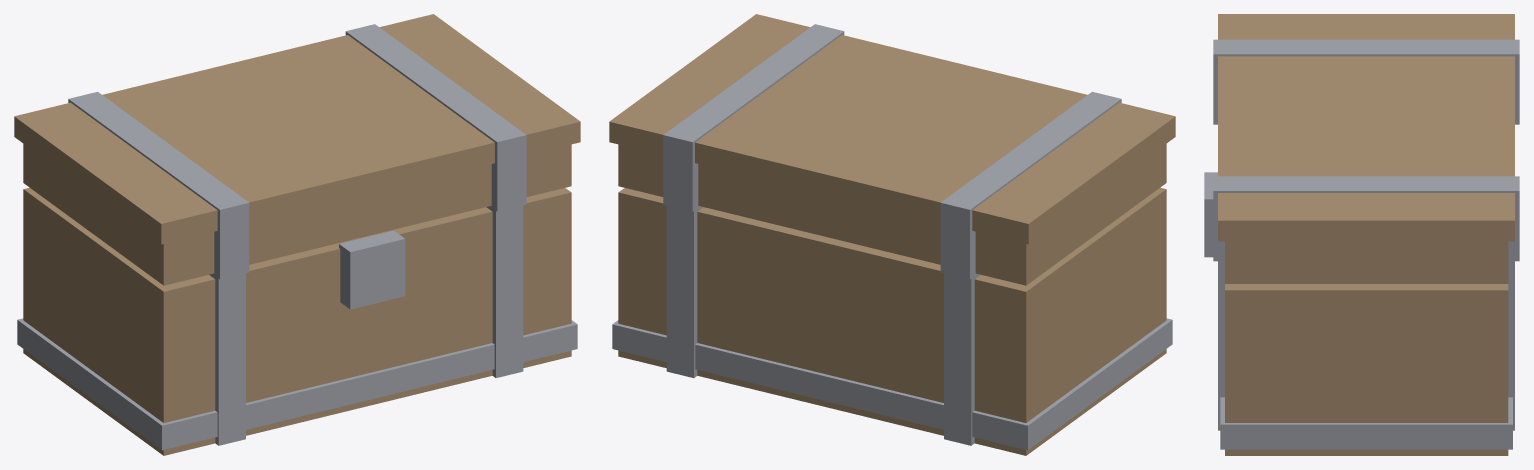
The model's file is dragons-and-wyverns-treasure-chest-d07acecc__36740.glb.
3 views of the same model, side by side, from view 1: azimuth 30°, elevation 25°; view 2: azimuth 150°, elevation 25°; view 3: azimuth 270°, elevation 25° (orthographic).
Parts seen in each view (by area): view 1: chest-lid (×2), treasure-chest; view 2: chest-lid (×2), treasure-chest; view 3: chest-lid (×2), treasure-chest.
Part boxes in pixels (left/top/right/bottom): chest-lid (×2): left=14, top=14, right=580, bottom=285; treasure-chest: left=17, top=187, right=577, bottom=455; chest-lid (×2): left=609, top=14, right=1175, bottom=285; treasure-chest: left=612, top=187, right=1172, bottom=455; chest-lid (×2): left=1213, top=14, right=1519, bottom=283; treasure-chest: left=1204, top=172, right=1514, bottom=455.
Bounding box in the file's own units: 1.07 × 0.58 × 0.69.
